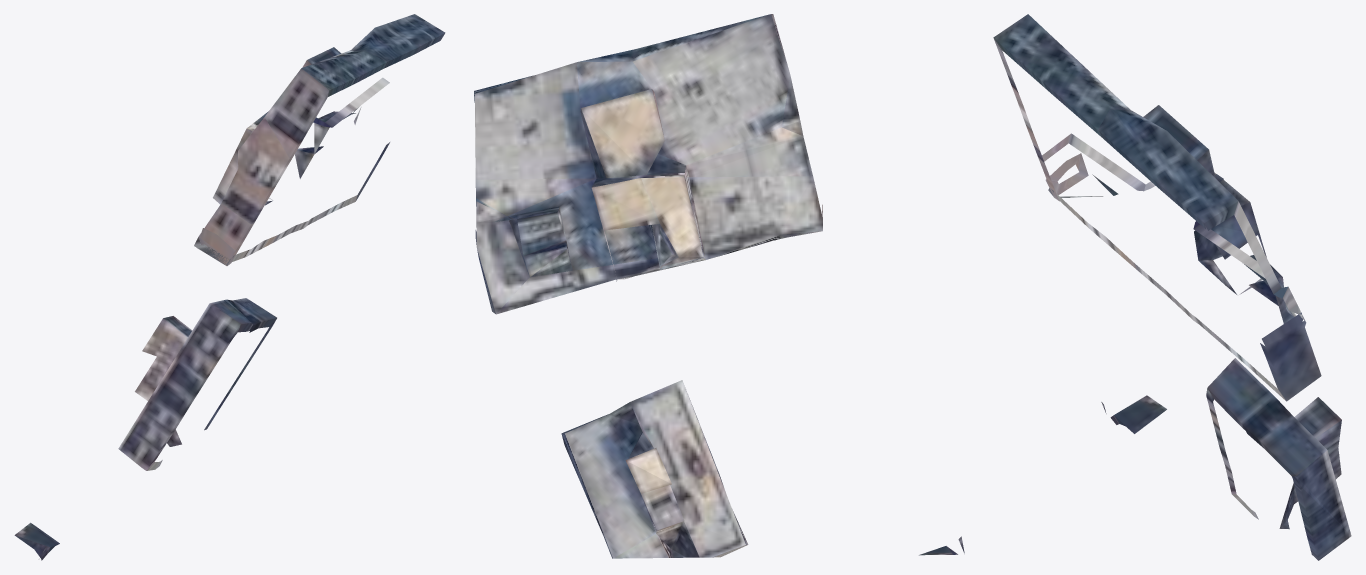
3 views of the same model, side by side, from view 1: azimuth 30°, elevation 25°; view 2: azimuth 150°, elevation 25°; view 3: azimuth 270°, elevation 25° (orthographic). The views are drawn at different scales.
Size of the model in its own units: 105 by 103 by 62.36.
1 material, 1 textured.
